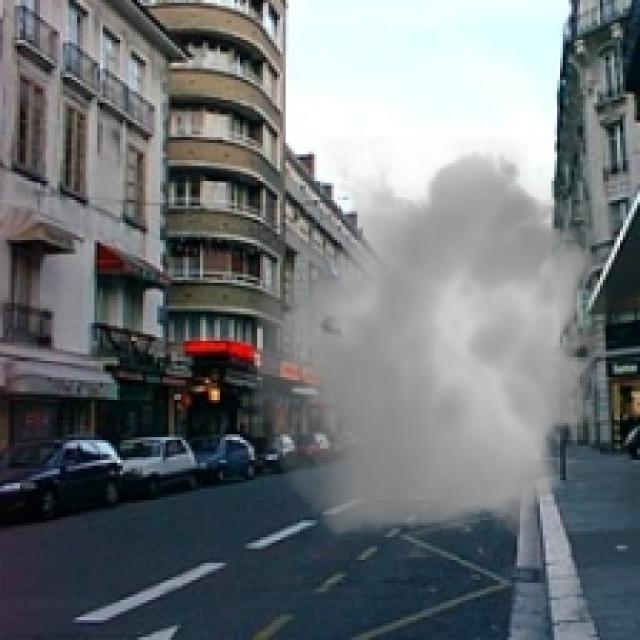smoke: (237, 137, 623, 557)
